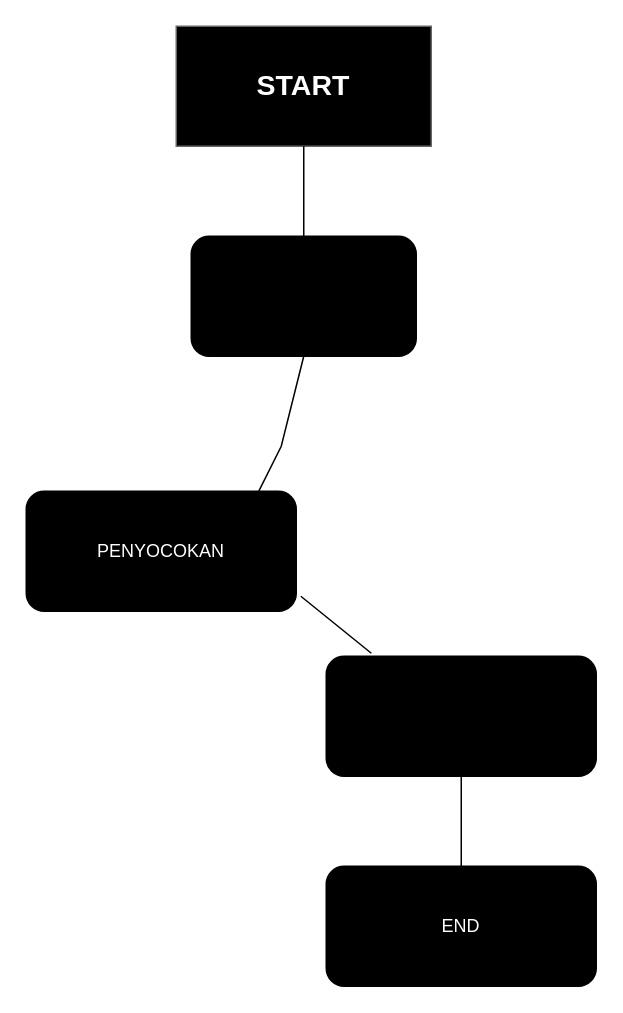
The diagram is 623 pixels wide and 1013 high, and some of its shapes have lost their labels. The centre of each missing label's shape, as x and y in pixels:
"HASIL" belongs at [460,715].
"INPUT NIM DAN JUDUL BUKU" belongs at [303,295].
